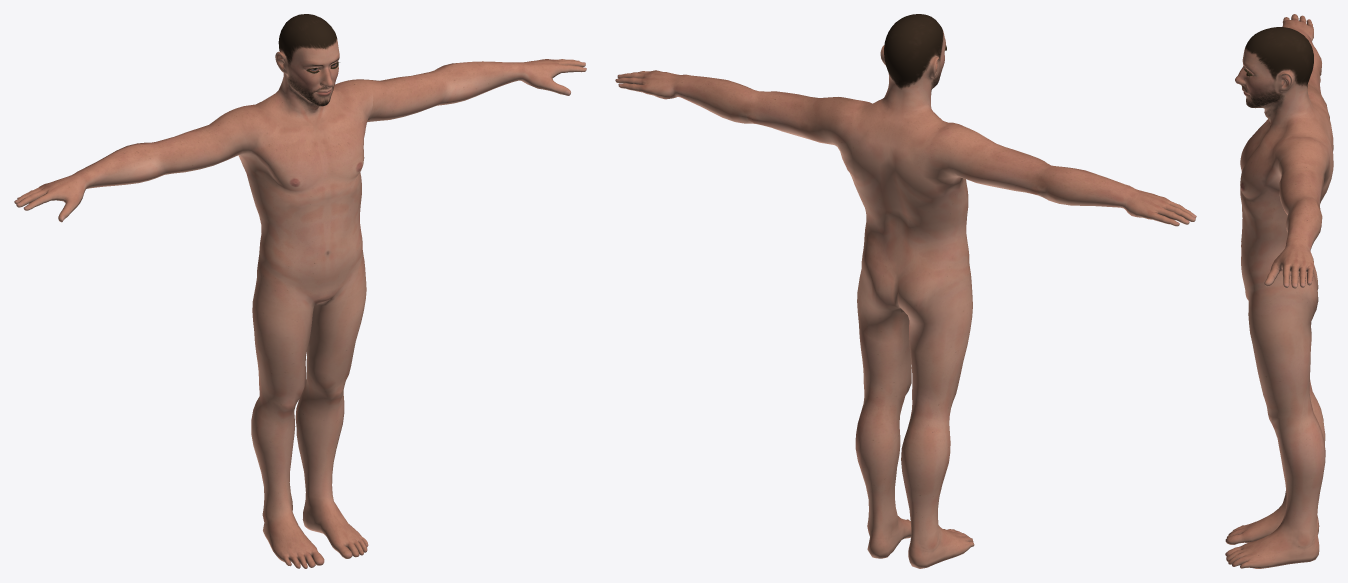
File: nude.obj
3 renders of one model, left to right at view 1: azimuth 30°, elevation 25°; view 2: azimuth 150°, elevation 25°; view 3: azimuth 270°, elevation 25°, orthographic. The views are drawn at different scales.
Parts seen in each view (by area): view 1: Body; view 2: Body; view 3: Body.
Part boxes in pixels (x1,y1,x2,y2): Body: [14, 14, 586, 568]; Body: [615, 14, 1196, 568]; Body: [1225, 14, 1333, 568].
Bounding box in the file's own units: 203 × 179 × 33.69.
1 material, 1 textured.
